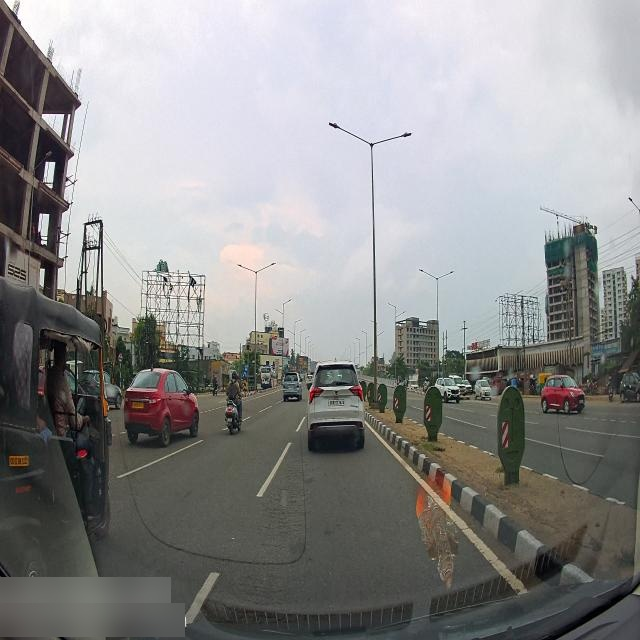pothole: (268, 504, 302, 536), (242, 581, 284, 604), (286, 461, 311, 481), (277, 482, 291, 515), (263, 538, 290, 552)
